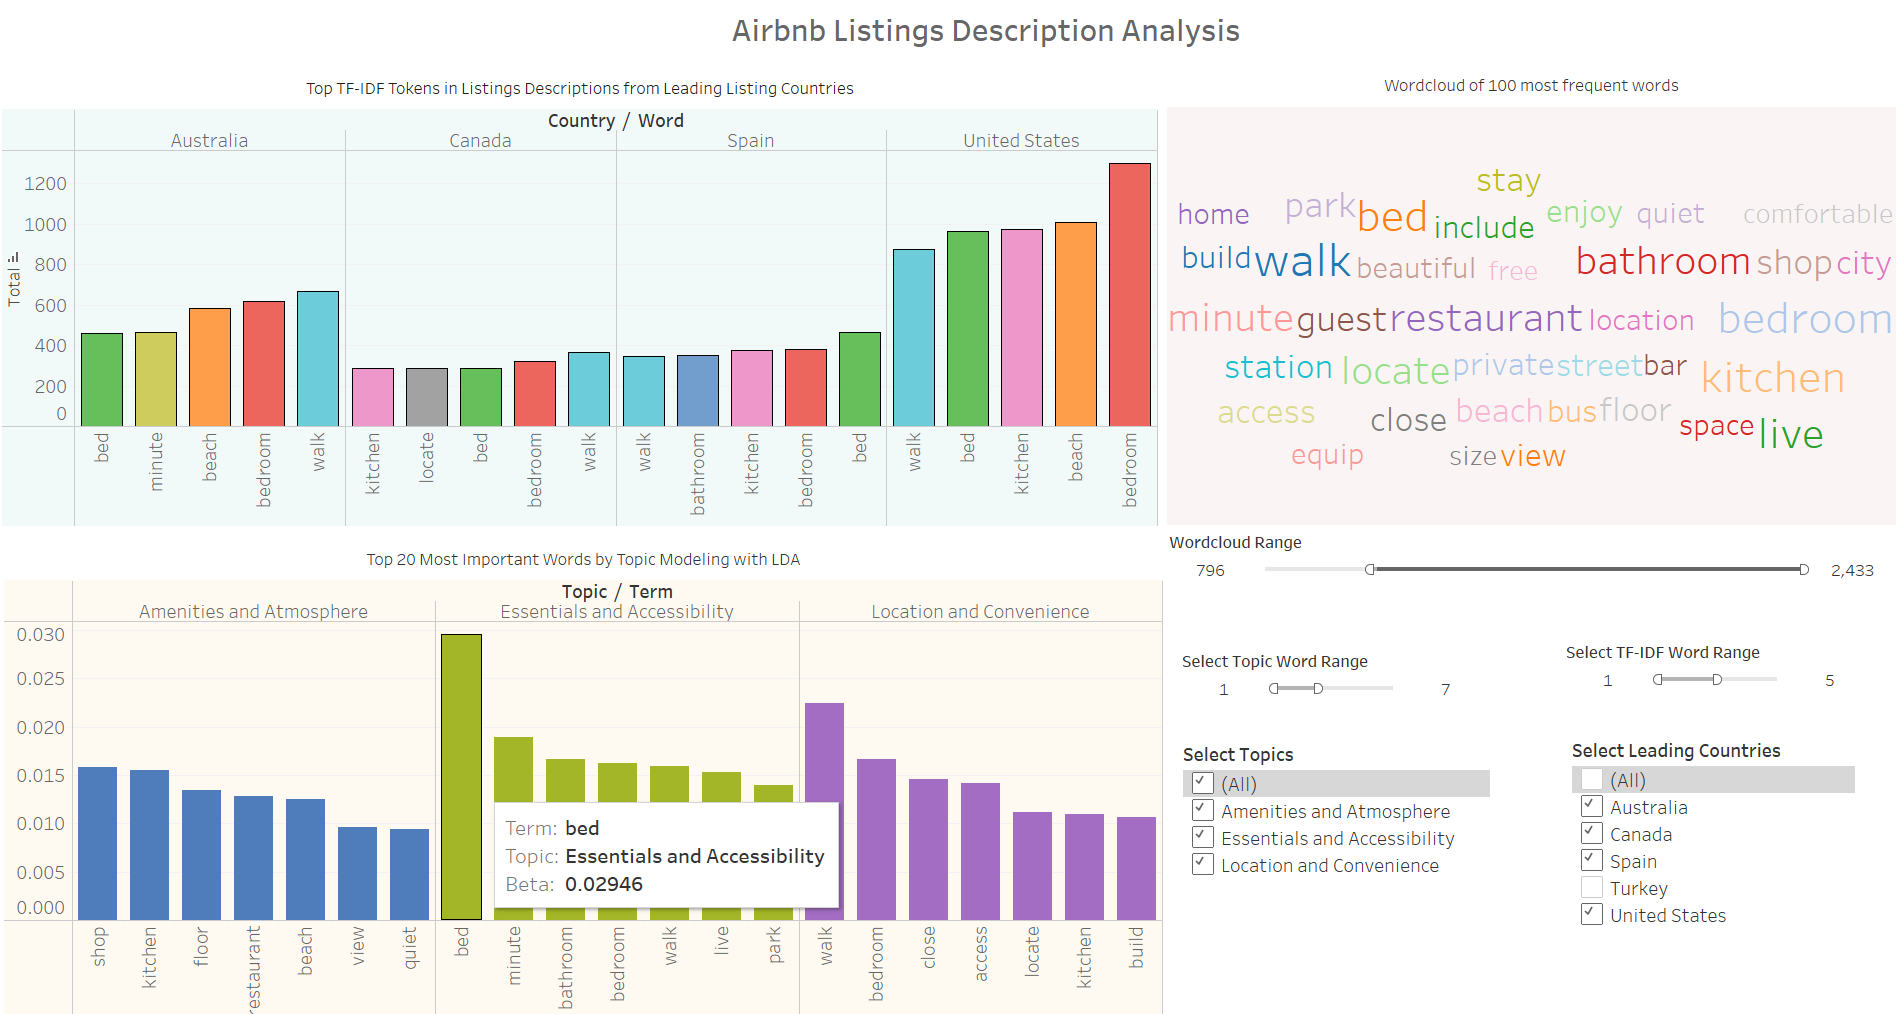

The page's visual inventory and layout, read from the dashboard file:
{"tool":"tableau","page":{"name":"Dashboard 2","canvas":[1000,1000],"units":"permille","ordinal":1},"visuals":[{"type":"text","box":[234,12.5,569,56.2]},{"type":"worksheet","title":"Wordcloud","mark":"Text","box":[612.7,79.4,379.9,440.4]},{"type":"worksheet","title":"TF-IDF","mark":"Automatic","rows":["total"],"cols":["country","word"],"box":[5.6,81.9,602.2,439.2]},{"type":"filter","title":"Wordcloud","param":"[federated.0baiwxs1ndh9n61b5hirc0x97sxj].[sum:total:qk]","box":[613.3,526,378.6,63.3]},{"type":"worksheet","title":"LDA","mark":"Automatic","rows":["beta"],"cols":["topic","term"],"box":[6.8,537.2,603.5,460.3]},{"type":"filter","title":"TF-IDF","param":"[federated.1qbutg90sffbim142rozb15aqjz3].[attr:rank:qk]","box":[820.3,631.5,160,86.9]},{"type":"filter","title":"LDA","param":"[federated.01e2cup1gluk9f1b6unyc1rjzhhy].[attr:rank:qk]","box":[620.1,640.2,160,85.6]},{"type":"filter","title":"TF-IDF","param":"[federated.1qbutg90sffbim142rozb15aqjz3].[none:country:nk]","box":[823.4,724.6,147.6,251.9]},{"type":"filter","title":"LDA","param":"[federated.01e2cup1gluk9f1b6unyc1rjzhhy].[none:topic:nk]","box":[620.8,728.3,160,174.9]}]}

Visuals, with their boxes on the dashboard's canvas, which has no fixed pixel size, in thousandths of its width and height (x1, y1, x2, y2). These are canvas units, not pixel positions in the 1899x1014 screenshot, which may show the page scaled, cropped or inside an application window:
text: box(234, 12, 803, 69)
"Wordcloud" worksheet (Text marks): box(613, 79, 993, 520)
"TF-IDF" worksheet: box(6, 82, 608, 521)
"Wordcloud" filter: box(613, 526, 992, 589)
"LDA" worksheet: box(7, 537, 610, 998)
"TF-IDF" filter: box(820, 632, 980, 718)
"LDA" filter: box(620, 640, 780, 726)
"TF-IDF" filter: box(823, 725, 971, 976)
"LDA" filter: box(621, 728, 781, 903)
